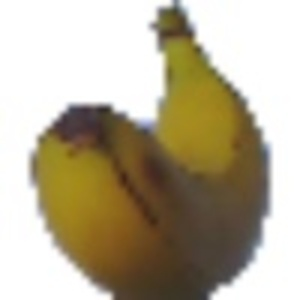banana: (26, 2, 269, 299)
